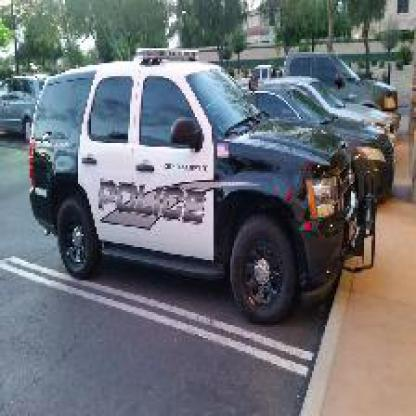emergency: (19, 47, 379, 310)
